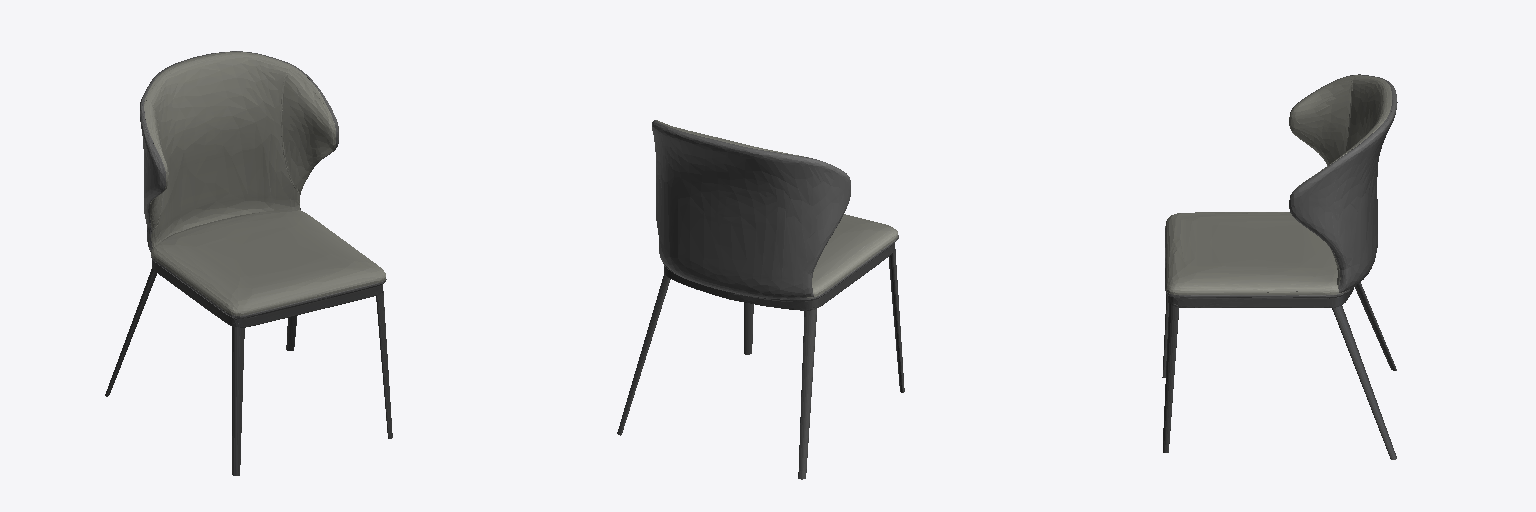
3 renders of one model, left to right at view 1: azimuth 30°, elevation 25°; view 2: azimuth 150°, elevation 25°; view 3: azimuth 270°, elevation 25°, orthographic.
Visible parts, largest first — view 1: solid_001, solid_003, solid_002; view 2: solid_002, solid_003, solid_001; view 3: solid_001, solid_002, solid_003.
Part boxes in pixels (bbox=[...]): solid_001: bbox=[144, 52, 385, 315]; solid_003: bbox=[105, 260, 392, 475]; solid_002: bbox=[140, 51, 386, 318]; solid_002: bbox=[652, 120, 898, 301]; solid_003: bbox=[617, 243, 904, 479]; solid_001: bbox=[656, 120, 897, 297]; solid_001: bbox=[1166, 75, 1391, 294]; solid_002: bbox=[1165, 74, 1397, 298]; solid_003: bbox=[1162, 282, 1396, 459].
Bounding box in the file's own units: 0.9294 × 1.5 × 1.01.
Materials: 1 (1 with a texture image).